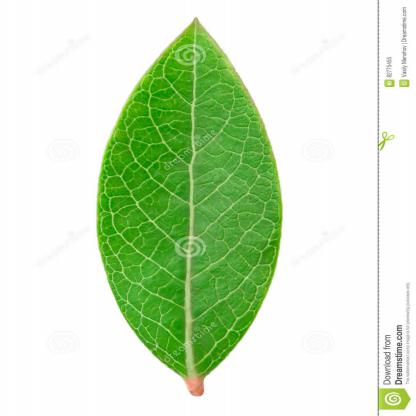Blueberry leaf: (84, 9, 305, 411)
